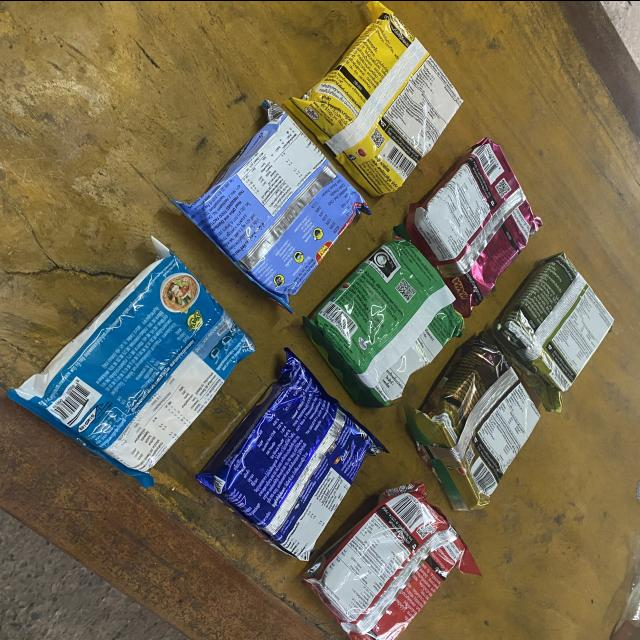plastik: (9, 236, 255, 485), (173, 99, 370, 310), (196, 348, 385, 559), (286, 0, 462, 196), (303, 482, 480, 640), (304, 237, 462, 406), (406, 137, 542, 317), (405, 331, 540, 510), (491, 252, 613, 411)
